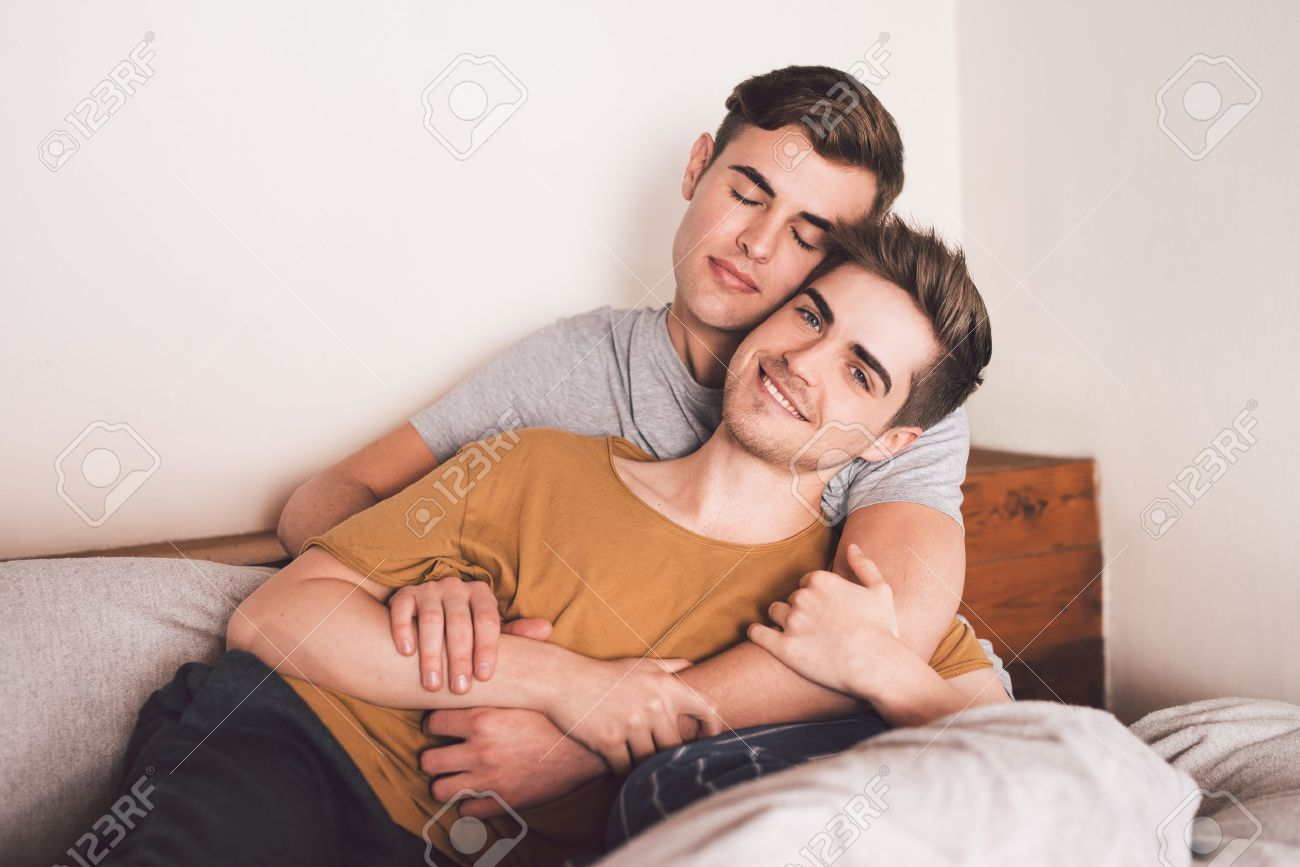bare: (727, 330, 849, 471), (674, 227, 795, 327)
